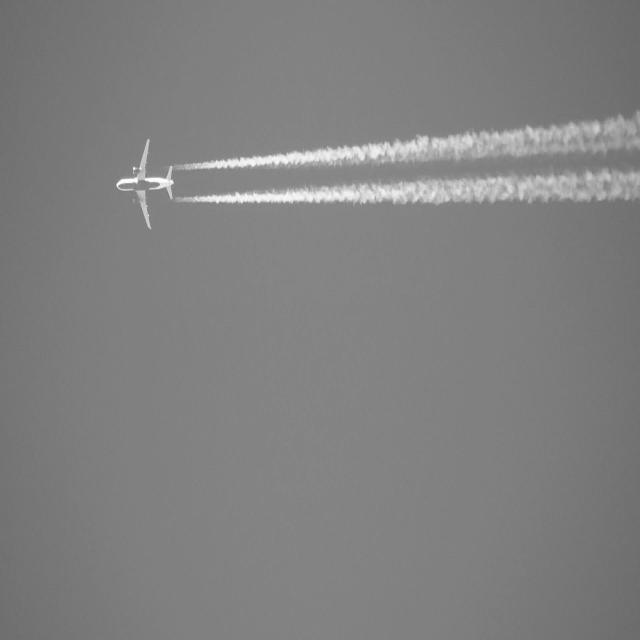aeroplane: (110, 135, 183, 239)
